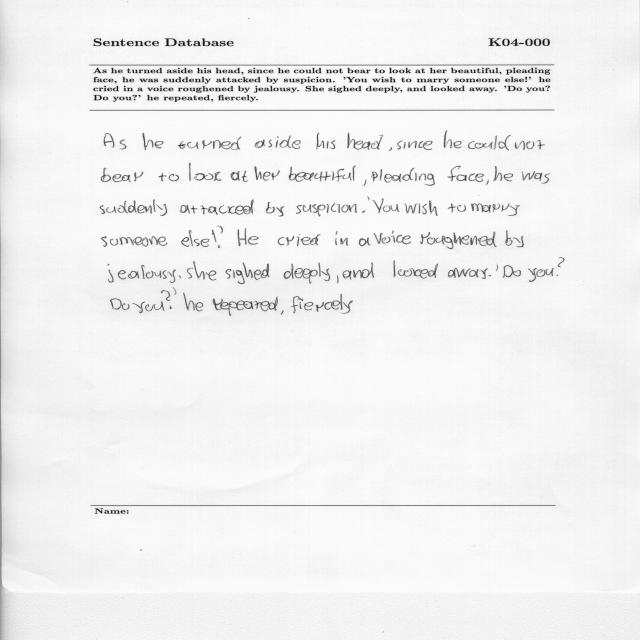word: (420, 232, 497, 249), (108, 264, 176, 283), (213, 297, 278, 316), (180, 199, 254, 215), (289, 165, 356, 182), (100, 199, 167, 216), (372, 168, 435, 186), (284, 262, 330, 284), (291, 294, 343, 313), (226, 262, 269, 284), (132, 291, 172, 314), (178, 137, 242, 150), (296, 204, 357, 217), (394, 261, 438, 279), (102, 236, 168, 247), (468, 135, 511, 150), (255, 135, 301, 149), (471, 203, 520, 216), (347, 133, 383, 150), (447, 166, 484, 182), (102, 168, 144, 182), (187, 261, 216, 281), (189, 163, 221, 181), (343, 262, 374, 280), (404, 200, 438, 216), (278, 234, 321, 246), (374, 231, 411, 244), (182, 230, 210, 247), (448, 268, 488, 279), (104, 133, 127, 150), (254, 166, 280, 181), (373, 199, 399, 214), (522, 171, 550, 184), (528, 268, 554, 282), (143, 133, 164, 150), (398, 140, 433, 150), (444, 131, 462, 149), (505, 231, 524, 248), (240, 228, 258, 245), (317, 133, 336, 149), (515, 140, 545, 150), (494, 166, 514, 181), (211, 226, 223, 248), (266, 202, 284, 216), (503, 265, 521, 278), (111, 298, 130, 310), (230, 171, 248, 182), (335, 231, 348, 246), (556, 258, 565, 276), (159, 173, 179, 181), (341, 301, 353, 314), (189, 301, 203, 312), (448, 204, 466, 212), (359, 238, 371, 247), (183, 293, 189, 310), (238, 229, 241, 246), (174, 288, 177, 295), (363, 180, 366, 186), (486, 179, 489, 185), (281, 310, 284, 315), (389, 147, 392, 151), (496, 265, 498, 271), (368, 196, 370, 201), (362, 210, 365, 213), (337, 275, 338, 283), (179, 276, 181, 279), (488, 275, 491, 277)
